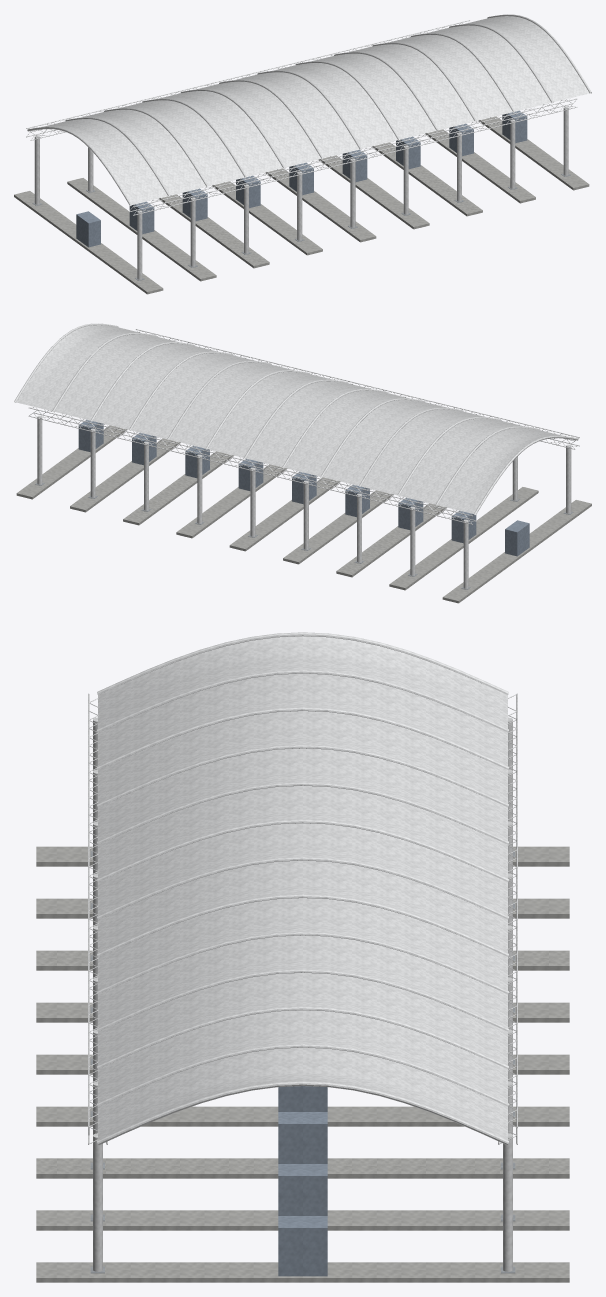
File: toll-plaza-canopy-structures.glb
The picture shows the model from 3 angles, top to bottom: view 1: azimuth 30°, elevation 25°; view 2: azimuth 150°, elevation 25°; view 3: azimuth 270°, elevation 25°; orthographic projection. The views are drawn at different scales.
Visible parts, largest first — view 1: TensileFabric(context), Islands(context), TollBooths(context), RoofArches, Columns&BasePlates, LatticeGirders, GirderBracing; view 2: TensileFabric(context), Islands(context), TollBooths(context), RoofArches, Columns&BasePlates, LatticeGirders, GirderBracing; view 3: TensileFabric(context), Islands(context), RoofArches, TollBooths(context), Columns&BasePlates, GirderBracing, LatticeGirders.
Part boxes in pixels (x1,y1,x2,y2): TensileFabric(context): (43,16,590,205); Islands(context): (14,116,589,294); TollBooths(context): (76,110,527,247); RoofArches: (27,14,591,205); Columns&BasePlates: (34,106,568,279); LatticeGirders: (26,20,577,215); GirderBracing: (26,20,576,214); TensileFabric(context): (15,325,562,514); Islands(context): (16,425,591,603); TollBooths(context): (78,419,529,556); RoofArches: (14,323,578,514); Columns&BasePlates: (37,415,571,588); LatticeGirders: (28,329,579,524); GirderBracing: (29,330,579,523); TensileFabric(context): (98,636,507,1139); Islands(context): (36,846,569,1282); RoofArches: (97,632,508,1144); TollBooths(context): (278,1086,327,1276); Columns&BasePlates: (93,717,512,1271); GirderBracing: (88,694,517,1144); LatticeGirders: (88,693,517,1144).
Size of the model in its own units: 52.04 by 11.71 by 26.
4 materials, 4 textured.
